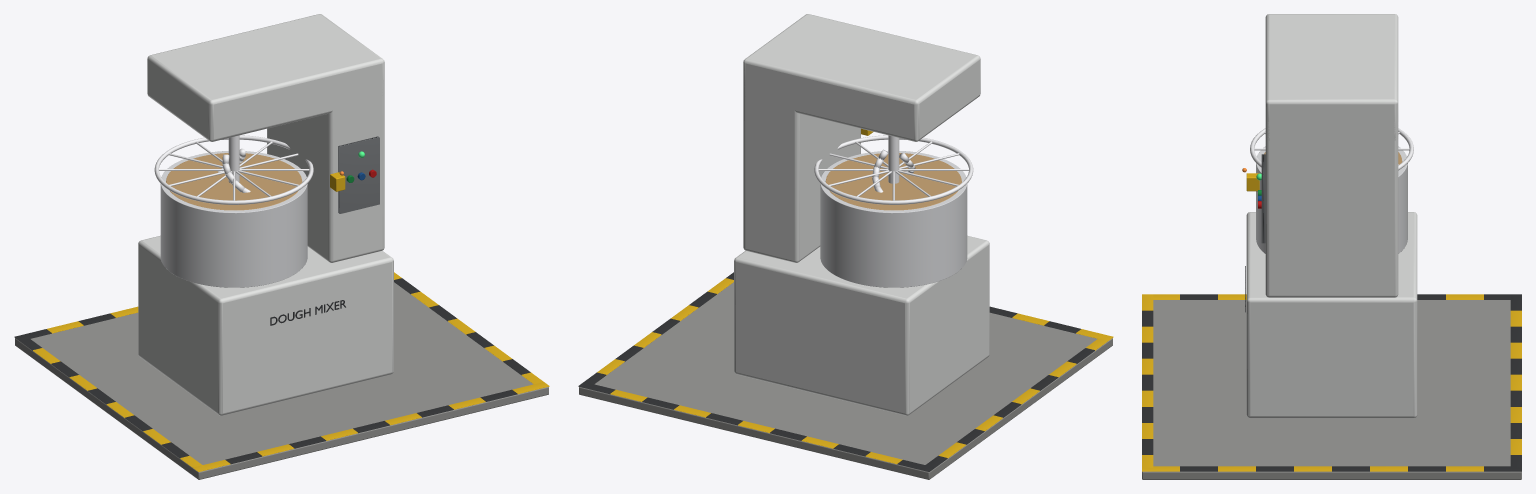
The model's file is machine_mixer.glb.
3 renders of one model, left to right at view 1: azimuth 30°, elevation 25°; view 2: azimuth 150°, elevation 25°; view 3: azimuth 270°, elevation 25°, orthographic. The views are drawn at different scales.
Visible parts, largest first — view 1: frame, hook_mesh; view 2: frame, hook_mesh; view 3: frame.
Part boxes in pixels (bbox=[...]): frame: bbox=[14, 14, 549, 479]; hook_mesh: bbox=[217, 135, 250, 192]; frame: bbox=[578, 14, 1113, 479]; hook_mesh: bbox=[872, 135, 915, 192]; frame: bbox=[1142, 14, 1521, 479].
Size of the model in its own units: 2.2 by 1.9 by 2.
